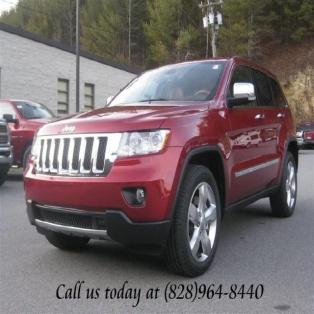Auto: (21, 58, 298, 278)
